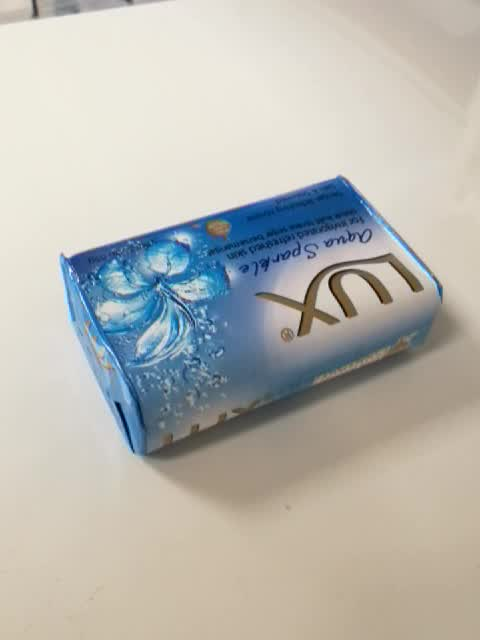soap: (58, 172, 448, 457)
